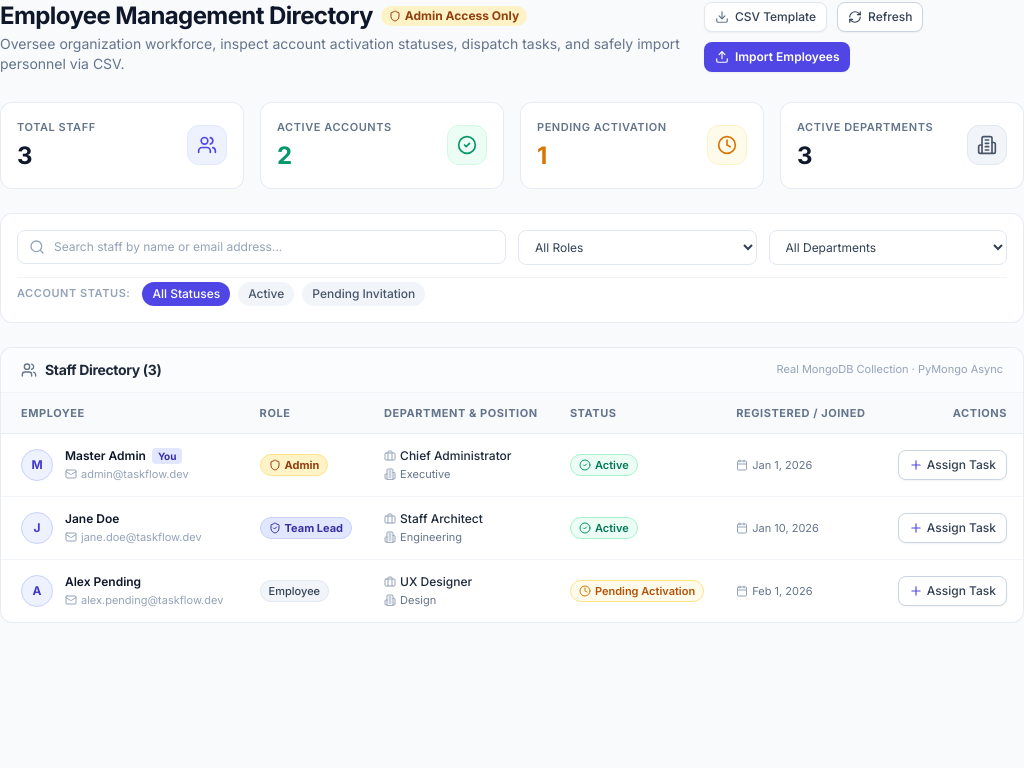
EmployeesPage › opens CsvImportModal when clicking Import Employees button
Click the button "Import Employees".
click(777, 57)  # box [704, 42, 850, 72]
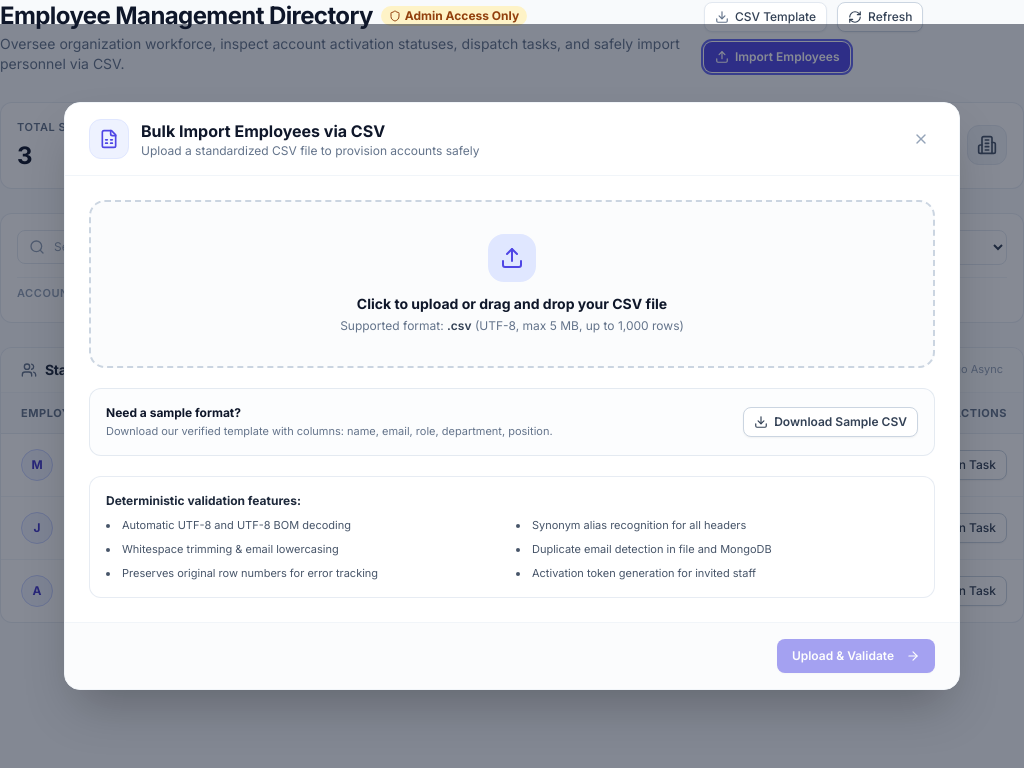
Expected: the heading "Bulk Import Employees via CSV" is shown, [141, 121, 385, 141]
